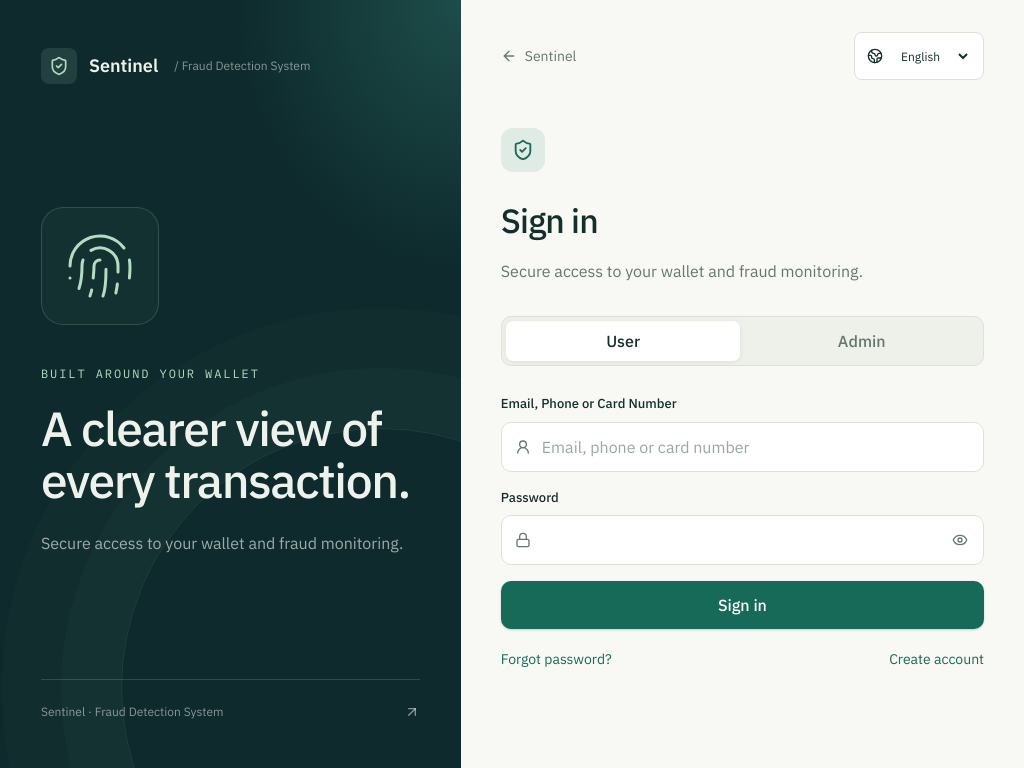
Test: Login › renders failed credentials and preserves the submitted role
Type "user@example.com" into the field labelled "Email, Phone or Card Number" at (742, 447), box [501, 422, 984, 472]
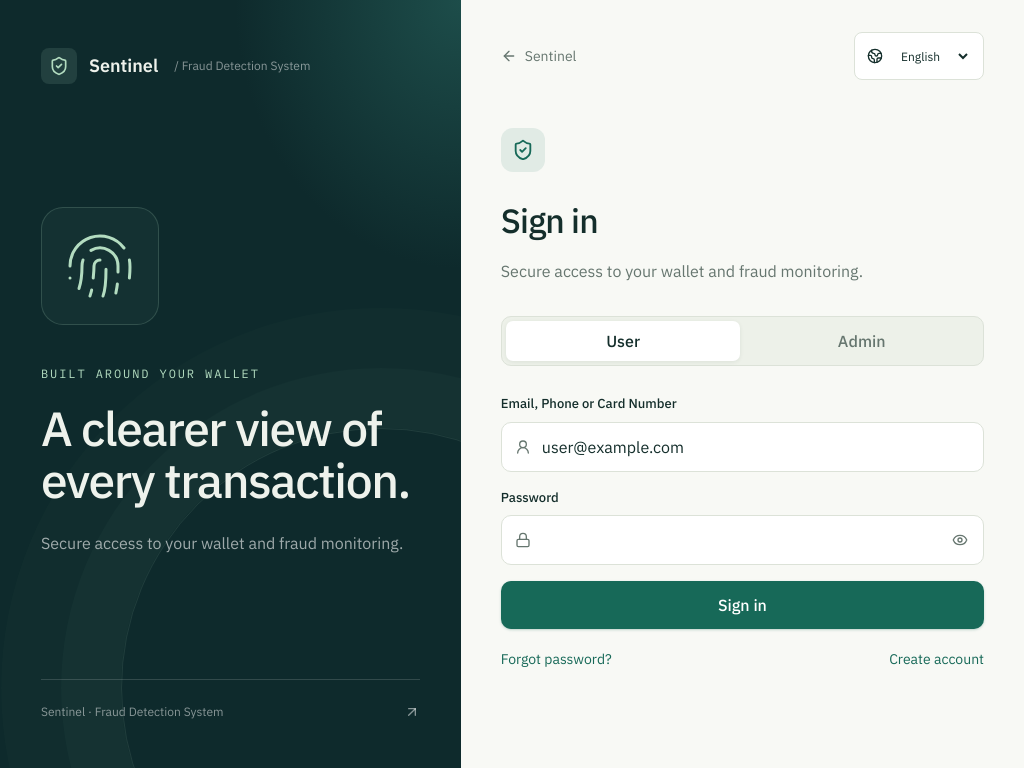
Type "badpassword" into the password field labelled "Password" at (742, 540), box [501, 515, 984, 565]
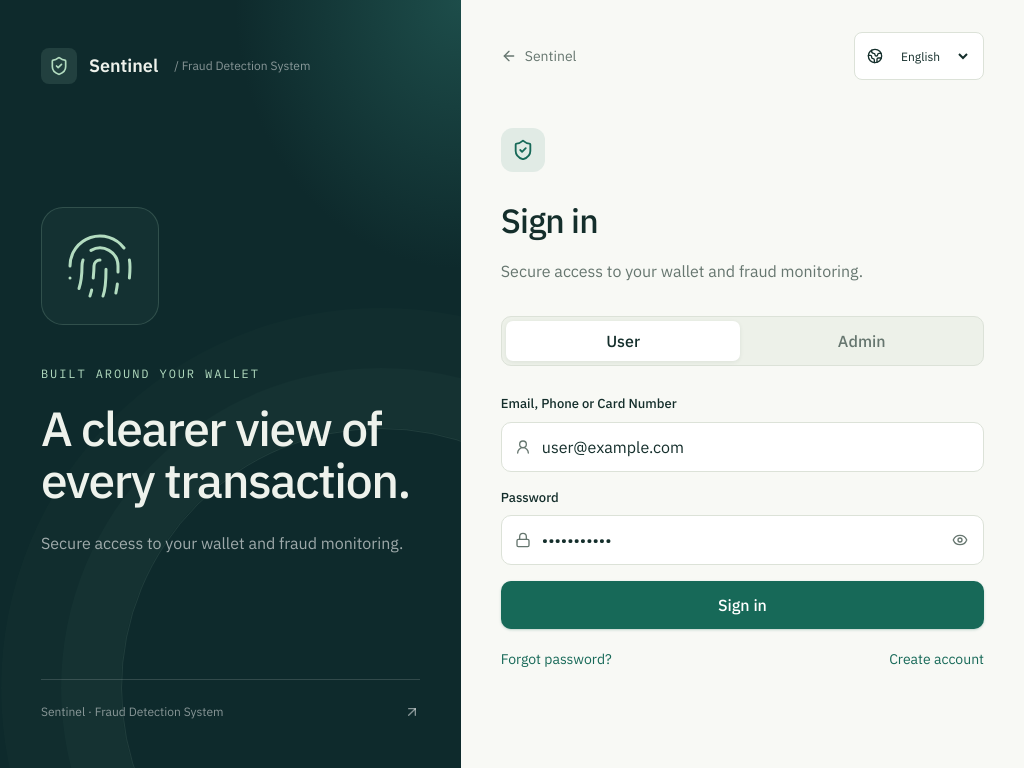
Click the button "Sign in" at (742, 605), box [501, 581, 984, 629]
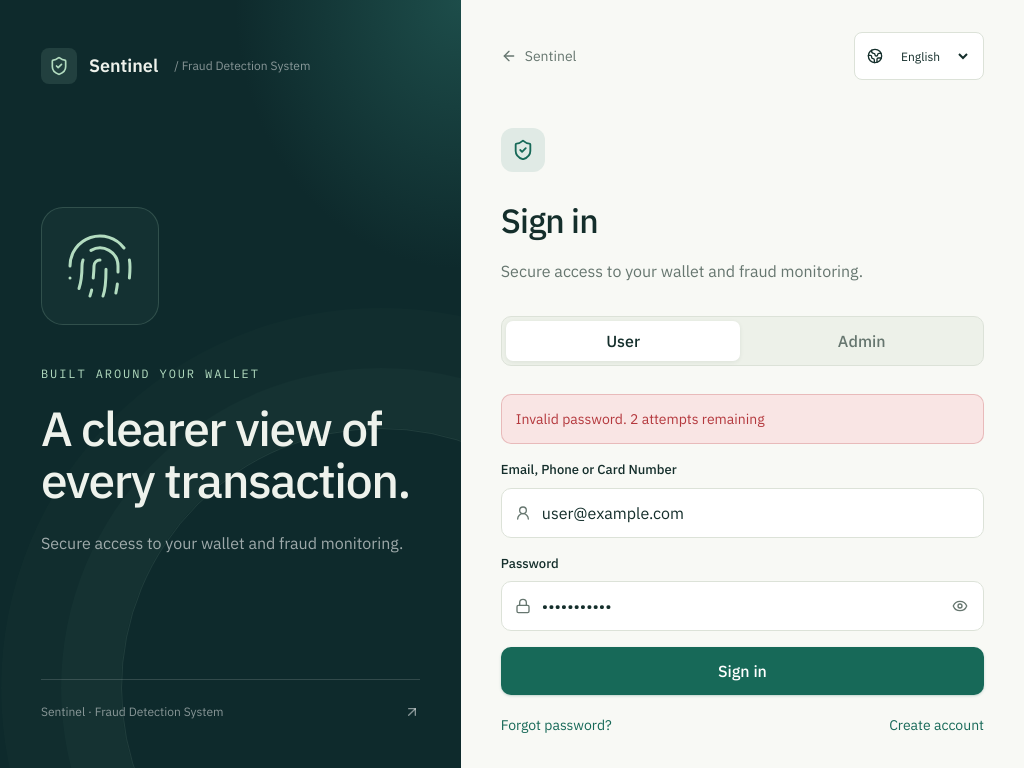
Now the message shows "2 attempts remaining", box [516, 410, 765, 428]
